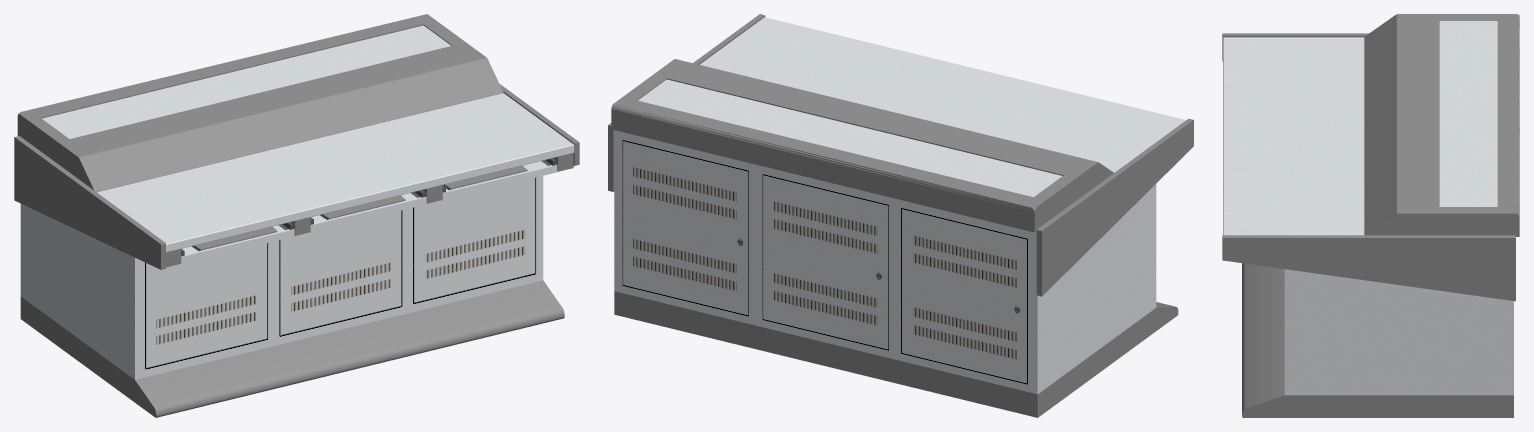
File: desk.obj
3 renders of one model, left to right at view 1: azimuth 30°, elevation 25°; view 2: azimuth 150°, elevation 25°; view 3: azimuth 270°, elevation 25°, orthographic. The views are drawn at different scales.
Parts seen in each view (by area): view 1: Box37, Rectangle54, Rectangle36, Rectangle55, Rectangle37, Rectangle45, Rectangle46, Rectangle44, Rectangle38, ____3_02, ____3_03, ____3_1; view 2: Box37, Rectangle54, Rectangle36, Rectangle55, Rectangle37, Rectangle38; view 3: Box37, Rectangle54, Rectangle38, Rectangle36, Rectangle55, Rectangle37.
Part boxes in pixels (<box>): Box37: <box>20,93,574,379</box>; Rectangle54: <box>17,14,503,192</box>; Rectangle36: <box>20,280,564,417</box>; Rectangle55: <box>42,25,450,138</box>; Rectangle37: <box>14,136,165,269</box>; Rectangle45: <box>310,192,426,232</box>; Rectangle46: <box>442,160,557,200</box>; Rectangle44: <box>181,224,294,263</box>; Rectangle38: <box>499,84,579,165</box>; ____3_02: <box>320,195,405,219</box>; ____3_03: <box>192,226,277,250</box>; ____3_1: <box>443,165,527,189</box>; Box37: <box>614,17,1185,394</box>; Rectangle54: <box>611,59,1113,232</box>; Rectangle36: <box>614,291,1178,417</box>; Rectangle55: <box>638,79,1062,197</box>; Rectangle37: <box>1036,118,1193,296</box>; Rectangle38: <box>608,14,765,191</box>; Box37: <box>1223,37,1513,395</box>; Rectangle54: <box>1364,14,1519,236</box>; Rectangle38: <box>1222,235,1515,301</box>; Rectangle36: <box>1242,263,1513,417</box>; Rectangle55: <box>1439,20,1497,206</box>; Rectangle37: <box>1222,33,1368,61</box>.
Size of the model in its own units: 1813 by 845 by 1114.
